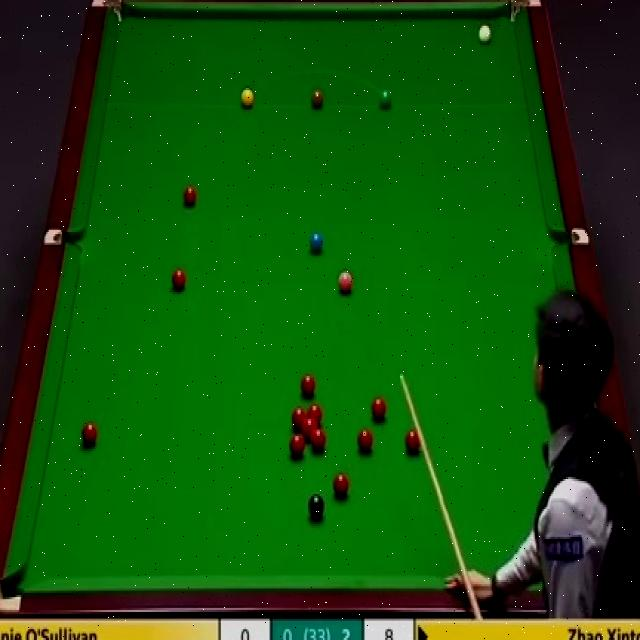black-ball: (308, 491, 326, 521)
blue-ball: (308, 231, 324, 255)
brown-ball: (310, 88, 324, 109)
green-ball: (378, 88, 392, 110)
pink-ball: (335, 271, 356, 300)
red-ball: (546, 316, 565, 347), (332, 470, 352, 499), (370, 396, 388, 422), (404, 430, 422, 456), (170, 268, 188, 292), (80, 422, 98, 446), (356, 429, 373, 454), (183, 184, 198, 210), (300, 374, 316, 398), (289, 434, 305, 457), (310, 430, 326, 453), (306, 403, 323, 424), (291, 410, 307, 431), (302, 418, 317, 438)
white-ball: (476, 20, 494, 48)
yellow-ball: (241, 88, 254, 110)
